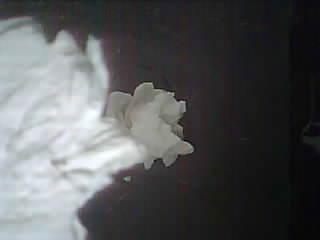paper: (0, 18, 193, 239)
